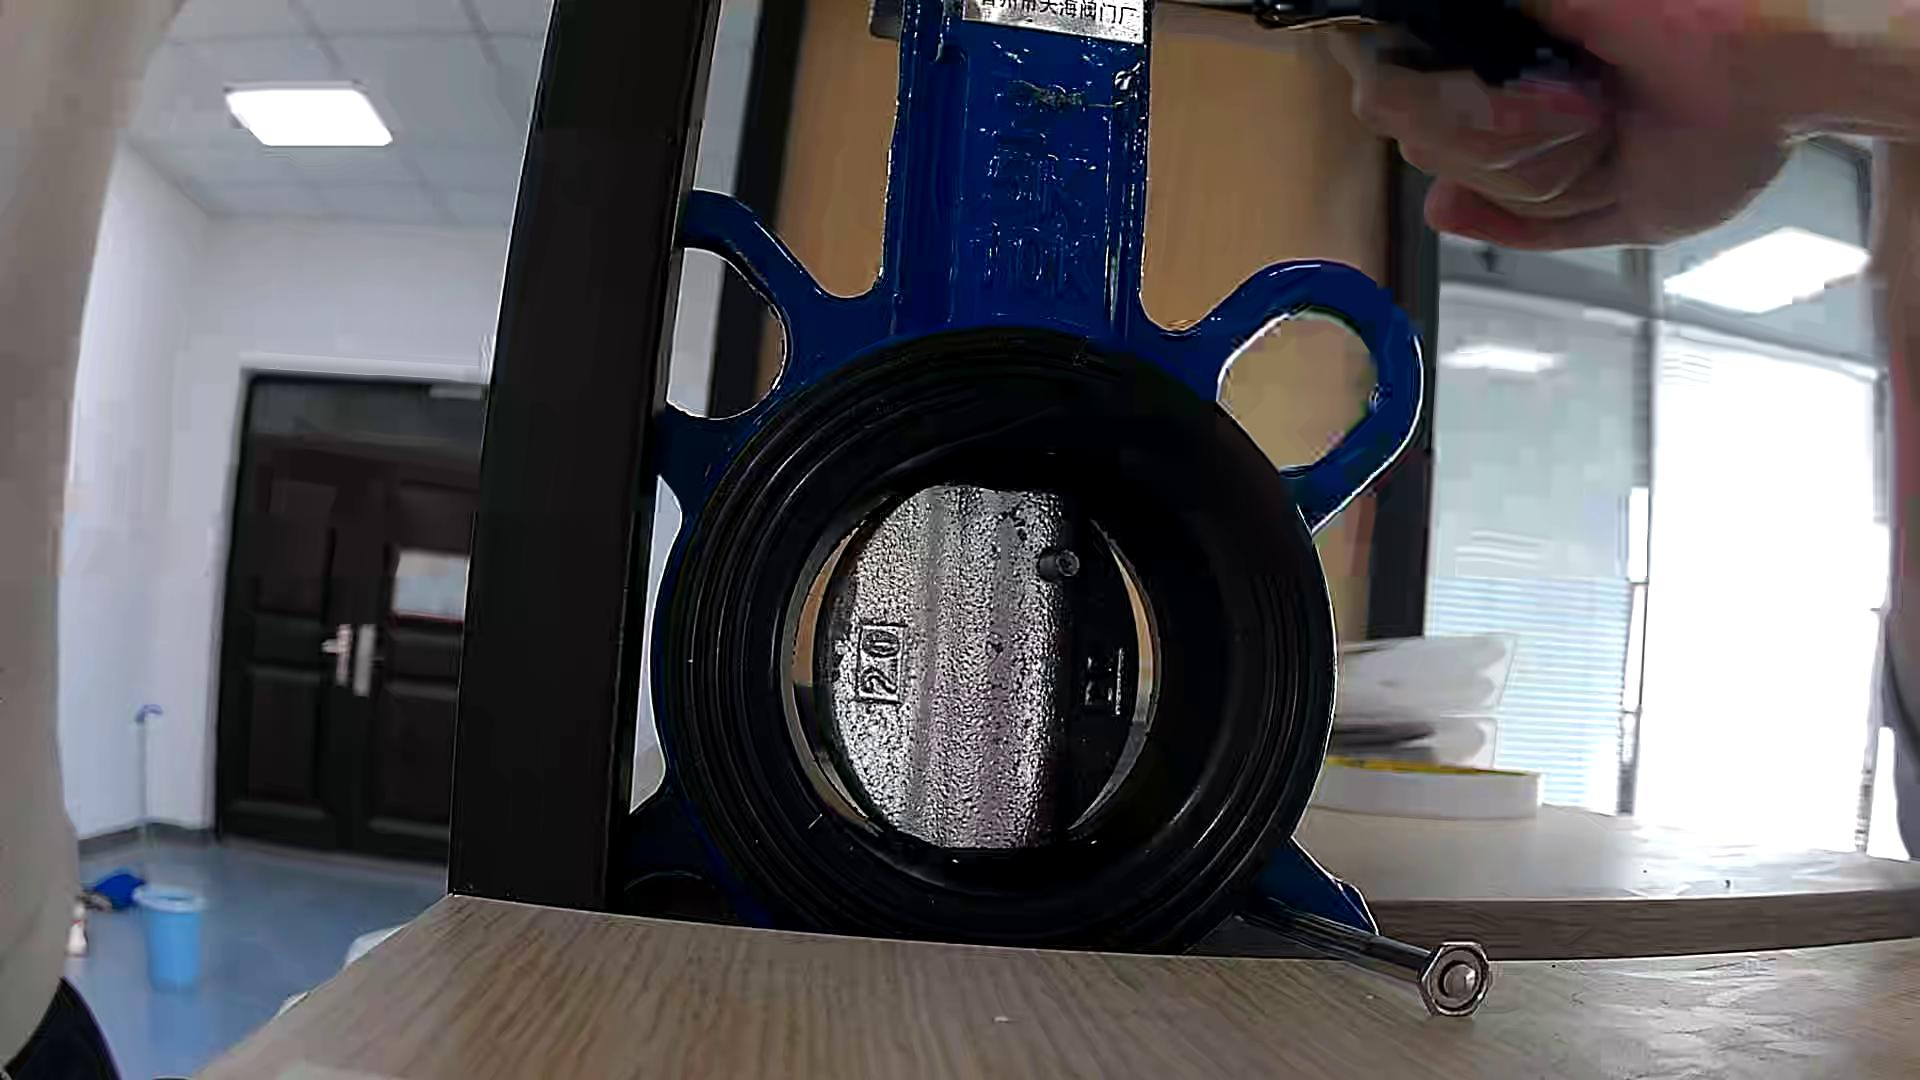valve: (811, 484, 1139, 848)
